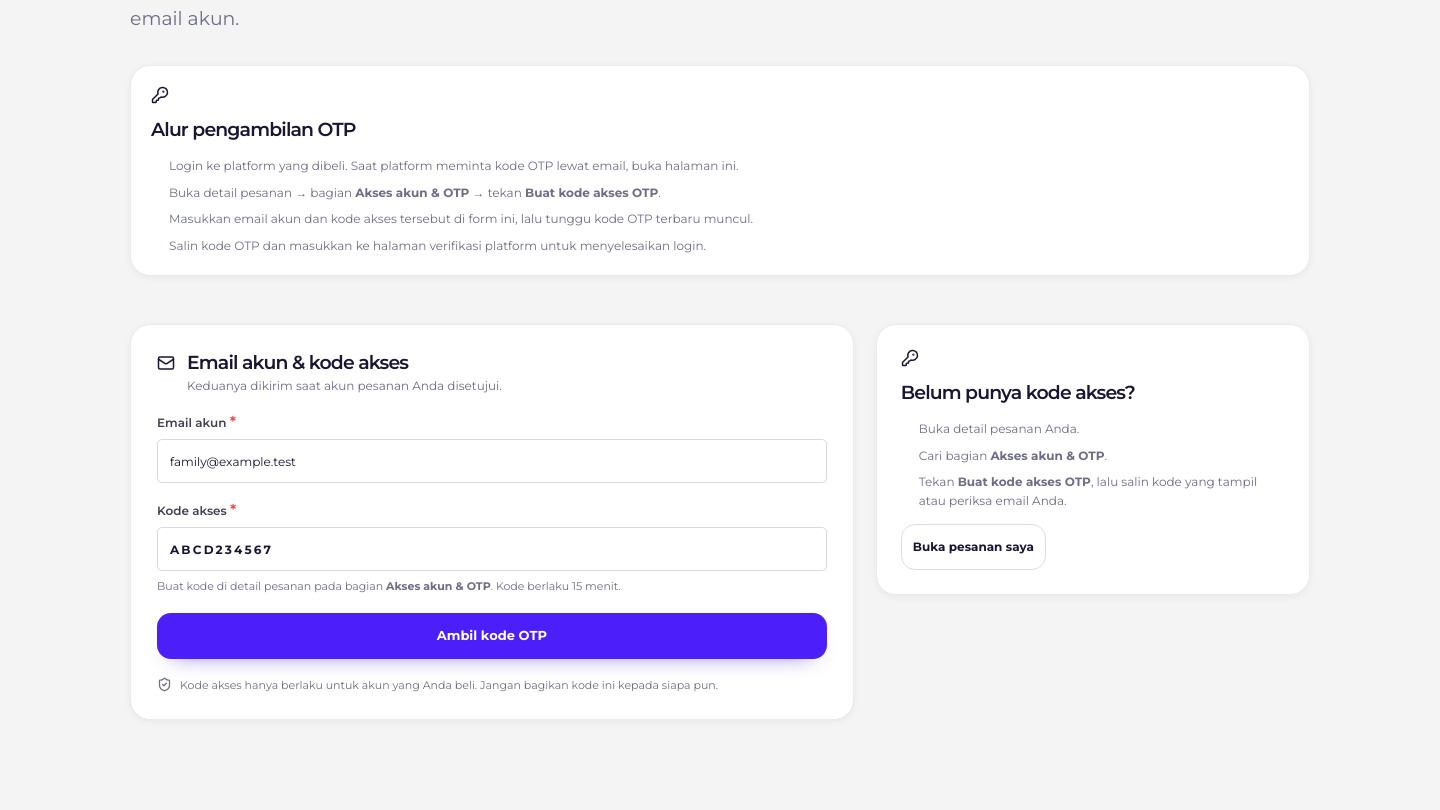
halaman ambil OTP akun › menjelaskan kode akses yang tidak cocok dengan pesan yang aman
This screenshot has width=1440, height=810.
(page scrolled)
Click the button "Ambil kode OTP". click: click(492, 636)
box: [157,613,827,659]
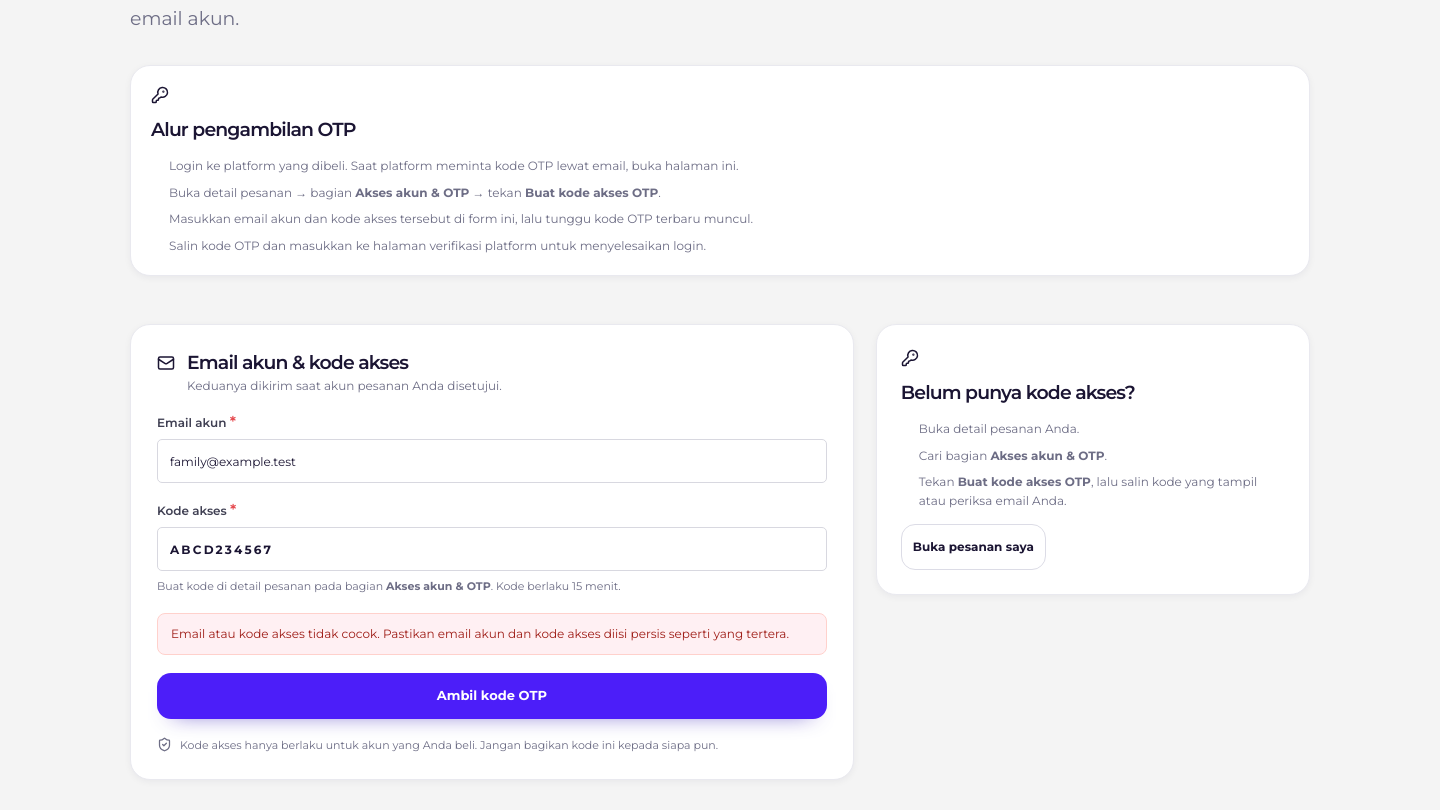
Now the message shows "Email atau kode akses tidak cocok", box [171,626,789,641]
